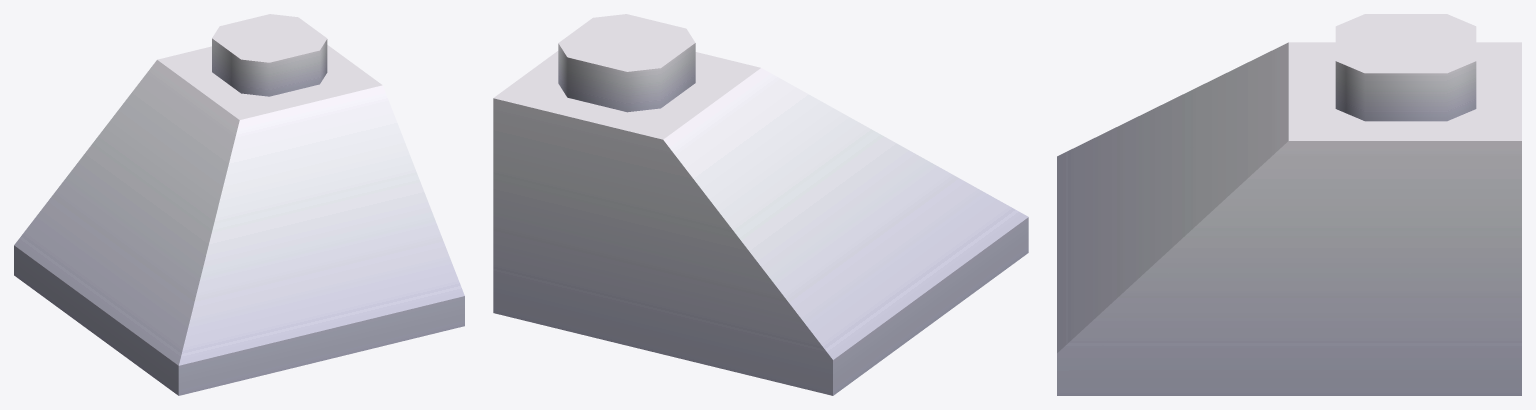
File: bevel-lq-brick-slope-corner-outside-2x2.glb
The picture shows the model from 3 angles, left to right: view 1: azimuth 30°, elevation 25°; view 2: azimuth 150°, elevation 25°; view 3: azimuth 270°, elevation 25°; orthographic projection. The views are drawn at different scales.
Parts seen in each view (by area): view 1: bevel-lq-brick-slope-corner-outside-2x2; view 2: bevel-lq-brick-slope-corner-outside-2x2; view 3: bevel-lq-brick-slope-corner-outside-2x2.
Boxes of the visible parts, box(x1,y1,x2,y2) form: bevel-lq-brick-slope-corner-outside-2x2: box(14, 14, 464, 395); bevel-lq-brick-slope-corner-outside-2x2: box(493, 14, 1028, 395); bevel-lq-brick-slope-corner-outside-2x2: box(1057, 14, 1521, 395).
Size of the model in its own units: 0.159 by 0.114 by 0.1585.
1 material, 1 textured.
